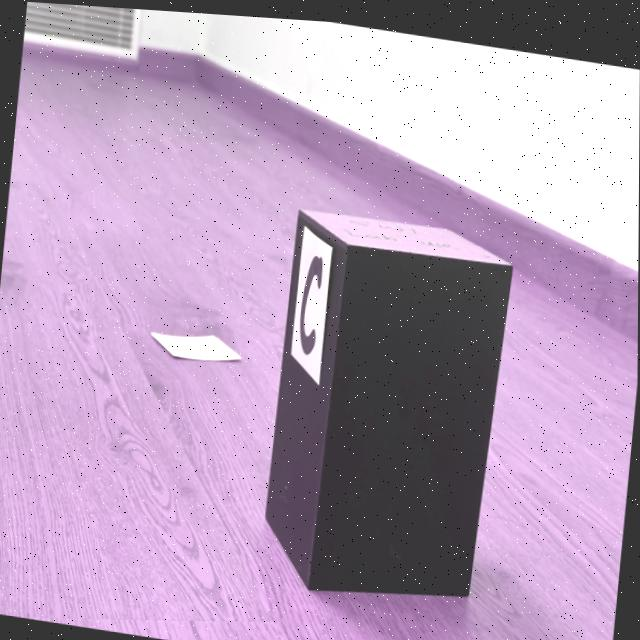C: (299, 251, 323, 350)
